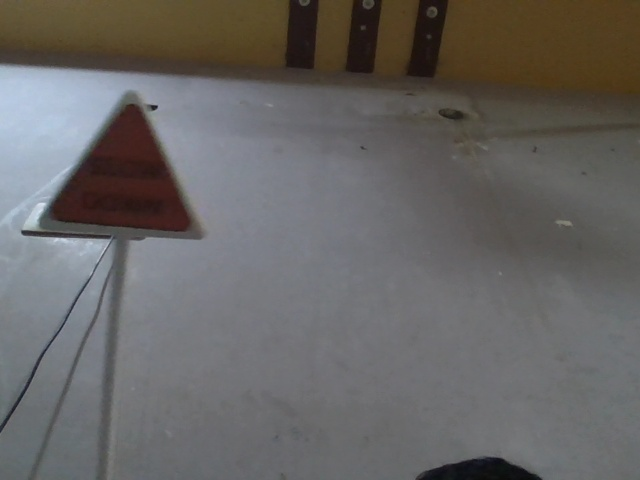slowdown: (37, 97, 204, 252)
